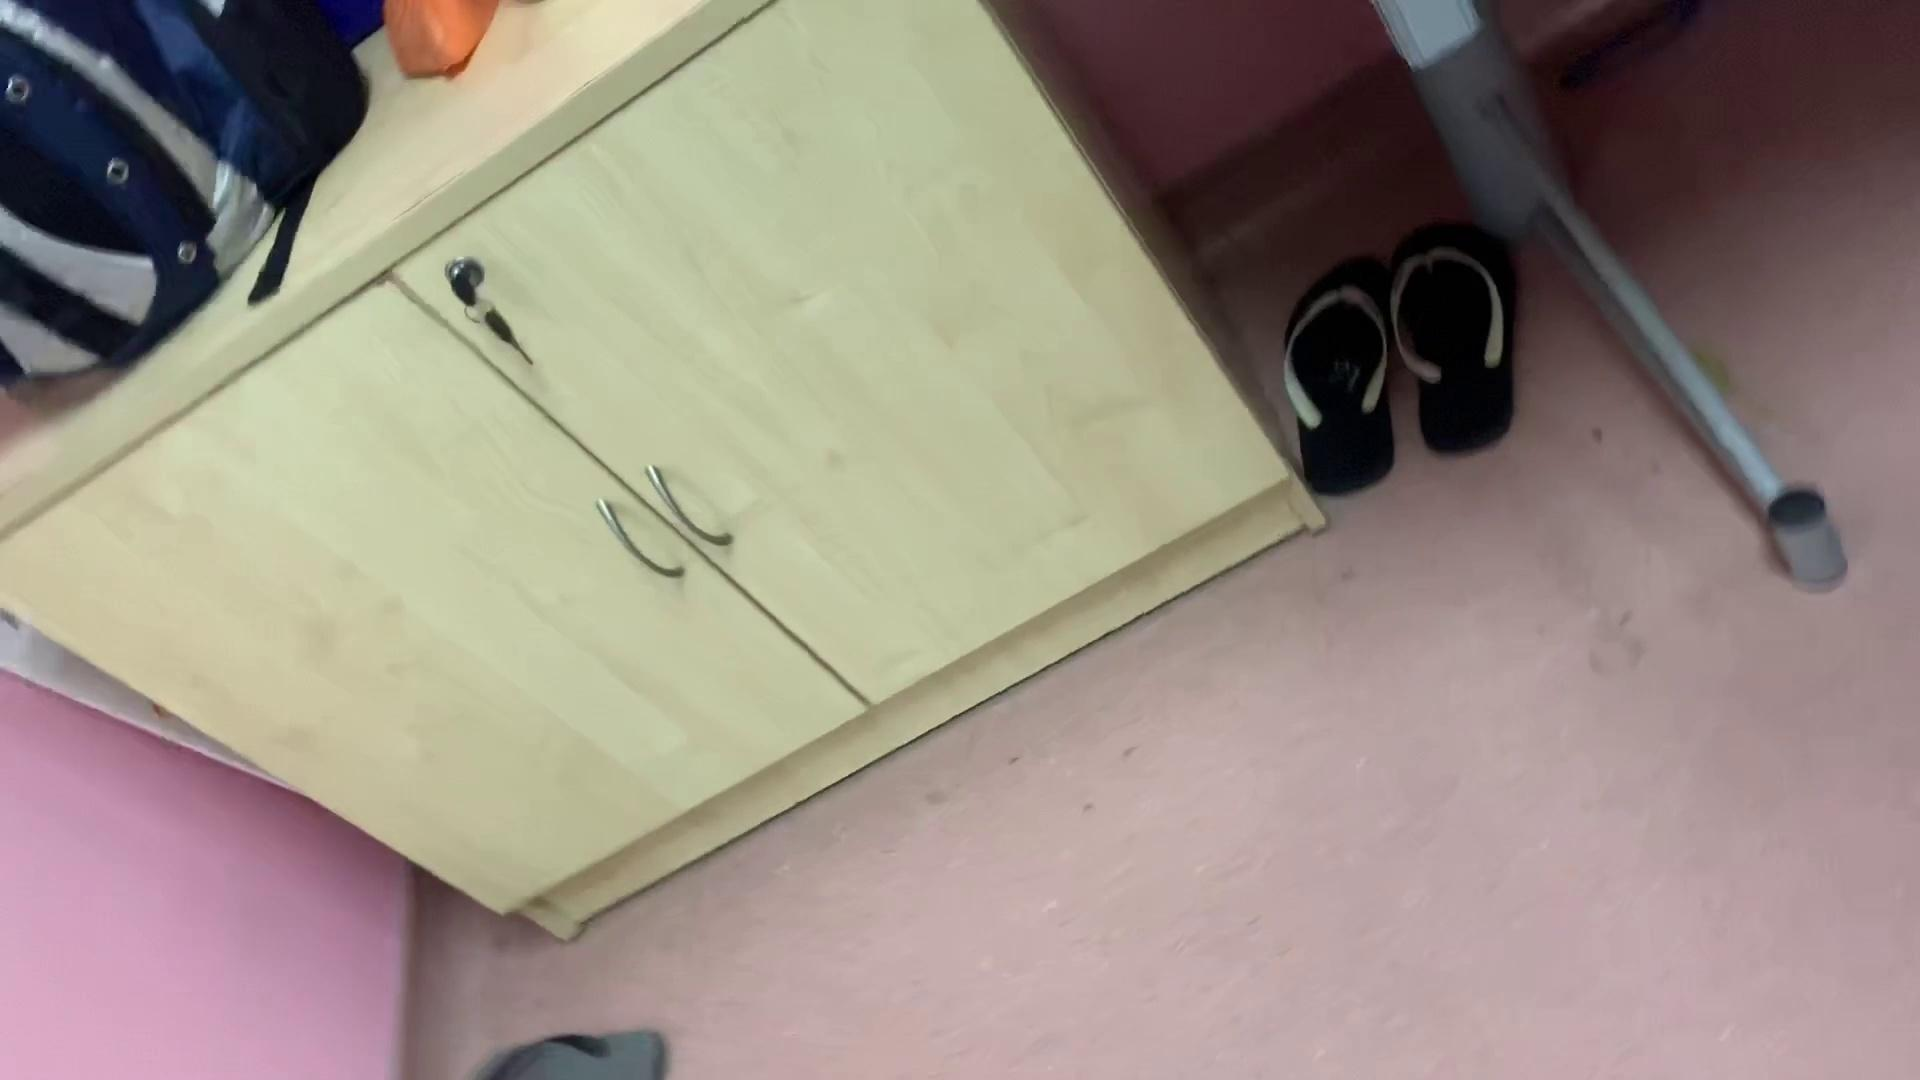cabinet_door: (613, 30, 1130, 655), (141, 340, 605, 853)
handle: (592, 489, 692, 585), (637, 460, 735, 554), (0, 69, 40, 113)
